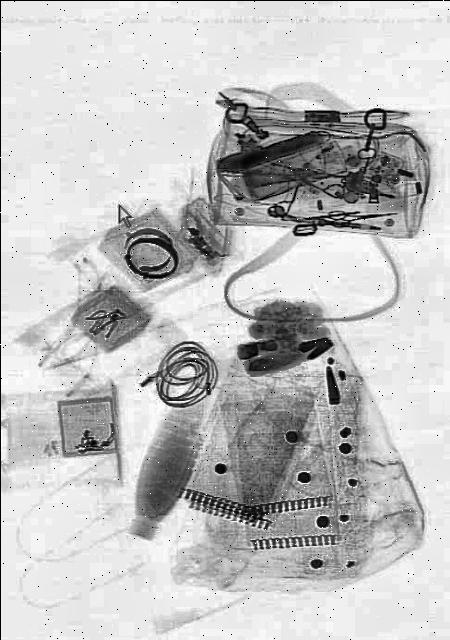Scissors: (326, 200, 398, 228)
